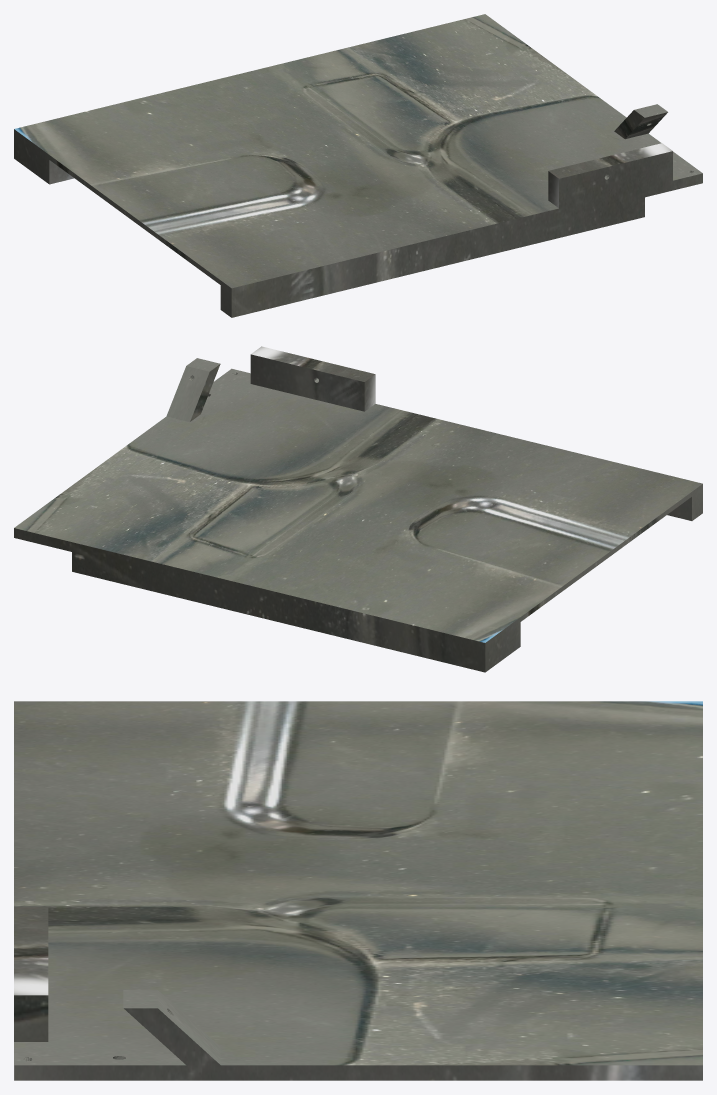
The model's file is v_battery_base_link.dae.
3 renders of one model, top to bottom at view 1: azimuth 30°, elevation 25°; view 2: azimuth 150°, elevation 25°; view 3: azimuth 270°, elevation 25°, orthographic. The views are drawn at different scales.
Parts seen in each view (by area): view 1: v_battery_base_link; view 2: v_battery_base_link; view 3: v_battery_base_link.
Boxes of the visible parts, x1,y1,x2,y2 form: v_battery_base_link: (14, 14, 702, 317); v_battery_base_link: (14, 346, 702, 672); v_battery_base_link: (14, 701, 702, 1080).
Bounding box in the file's own units: 0.5 × 0.4 × 0.0665.
Materials: 1 (1 with a texture image).
